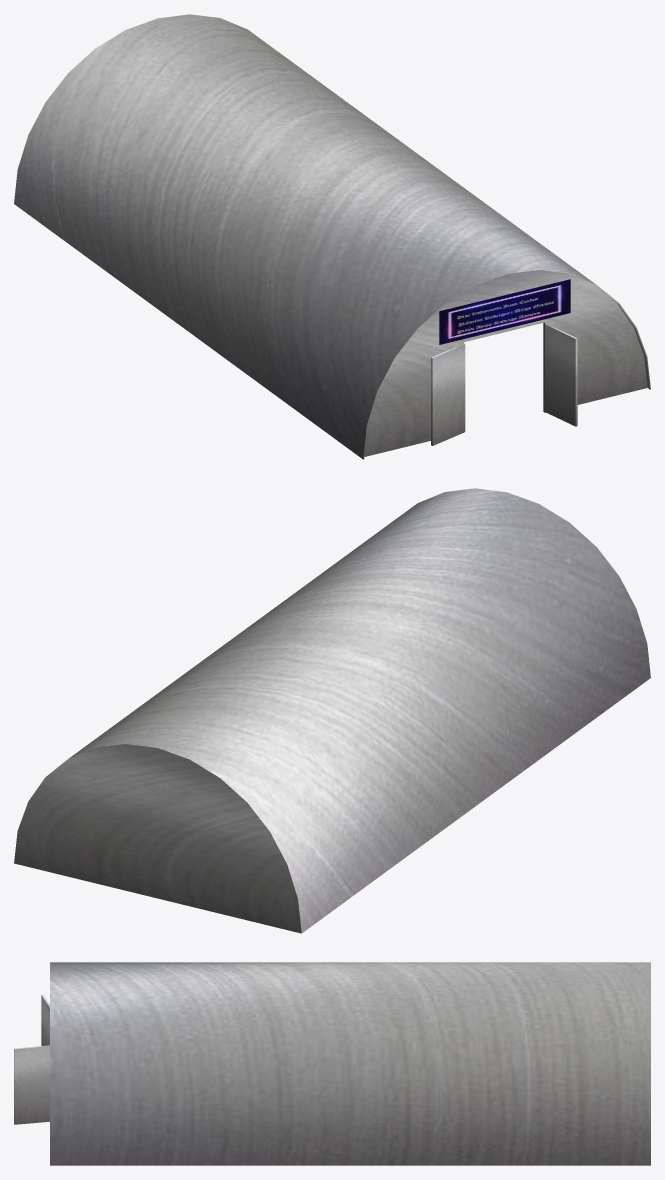
Rendered from hangar.obj.
3 views of the same model, one above another, from view 1: azimuth 30°, elevation 25°; view 2: azimuth 150°, elevation 25°; view 3: azimuth 270°, elevation 25° (orthographic). The views are drawn at different scales.
Parts seen in each view (by area): view 1: Cylinder001_Mesh, Cylinder001.001_Mesh.001, Cylinder001.002_Mesh.002, Cylinder001.003_Mesh.003; view 2: Cylinder001_Mesh; view 3: Cylinder001_Mesh, Cylinder001.003_Mesh.003, Cylinder001.002_Mesh.002.
Boxes of the visible parts, left/top/right/bottom form: Cylinder001_Mesh: left=14, top=14, right=650, bottom=459; Cylinder001.001_Mesh.001: left=439, top=279, right=570, bottom=344; Cylinder001.002_Mesh.002: left=431, top=343, right=465, bottom=445; Cylinder001.003_Mesh.003: left=545, top=323, right=577, bottom=426; Cylinder001_Mesh: left=14, top=488, right=650, bottom=933; Cylinder001_Mesh: left=50, top=962, right=650, bottom=1165; Cylinder001.003_Mesh.003: left=14, top=1045, right=49, bottom=1124; Cylinder001.002_Mesh.002: left=41, top=995, right=49, bottom=1045.
Bounding box in the file's own units: 14.27 × 7.13 × 31.8.
